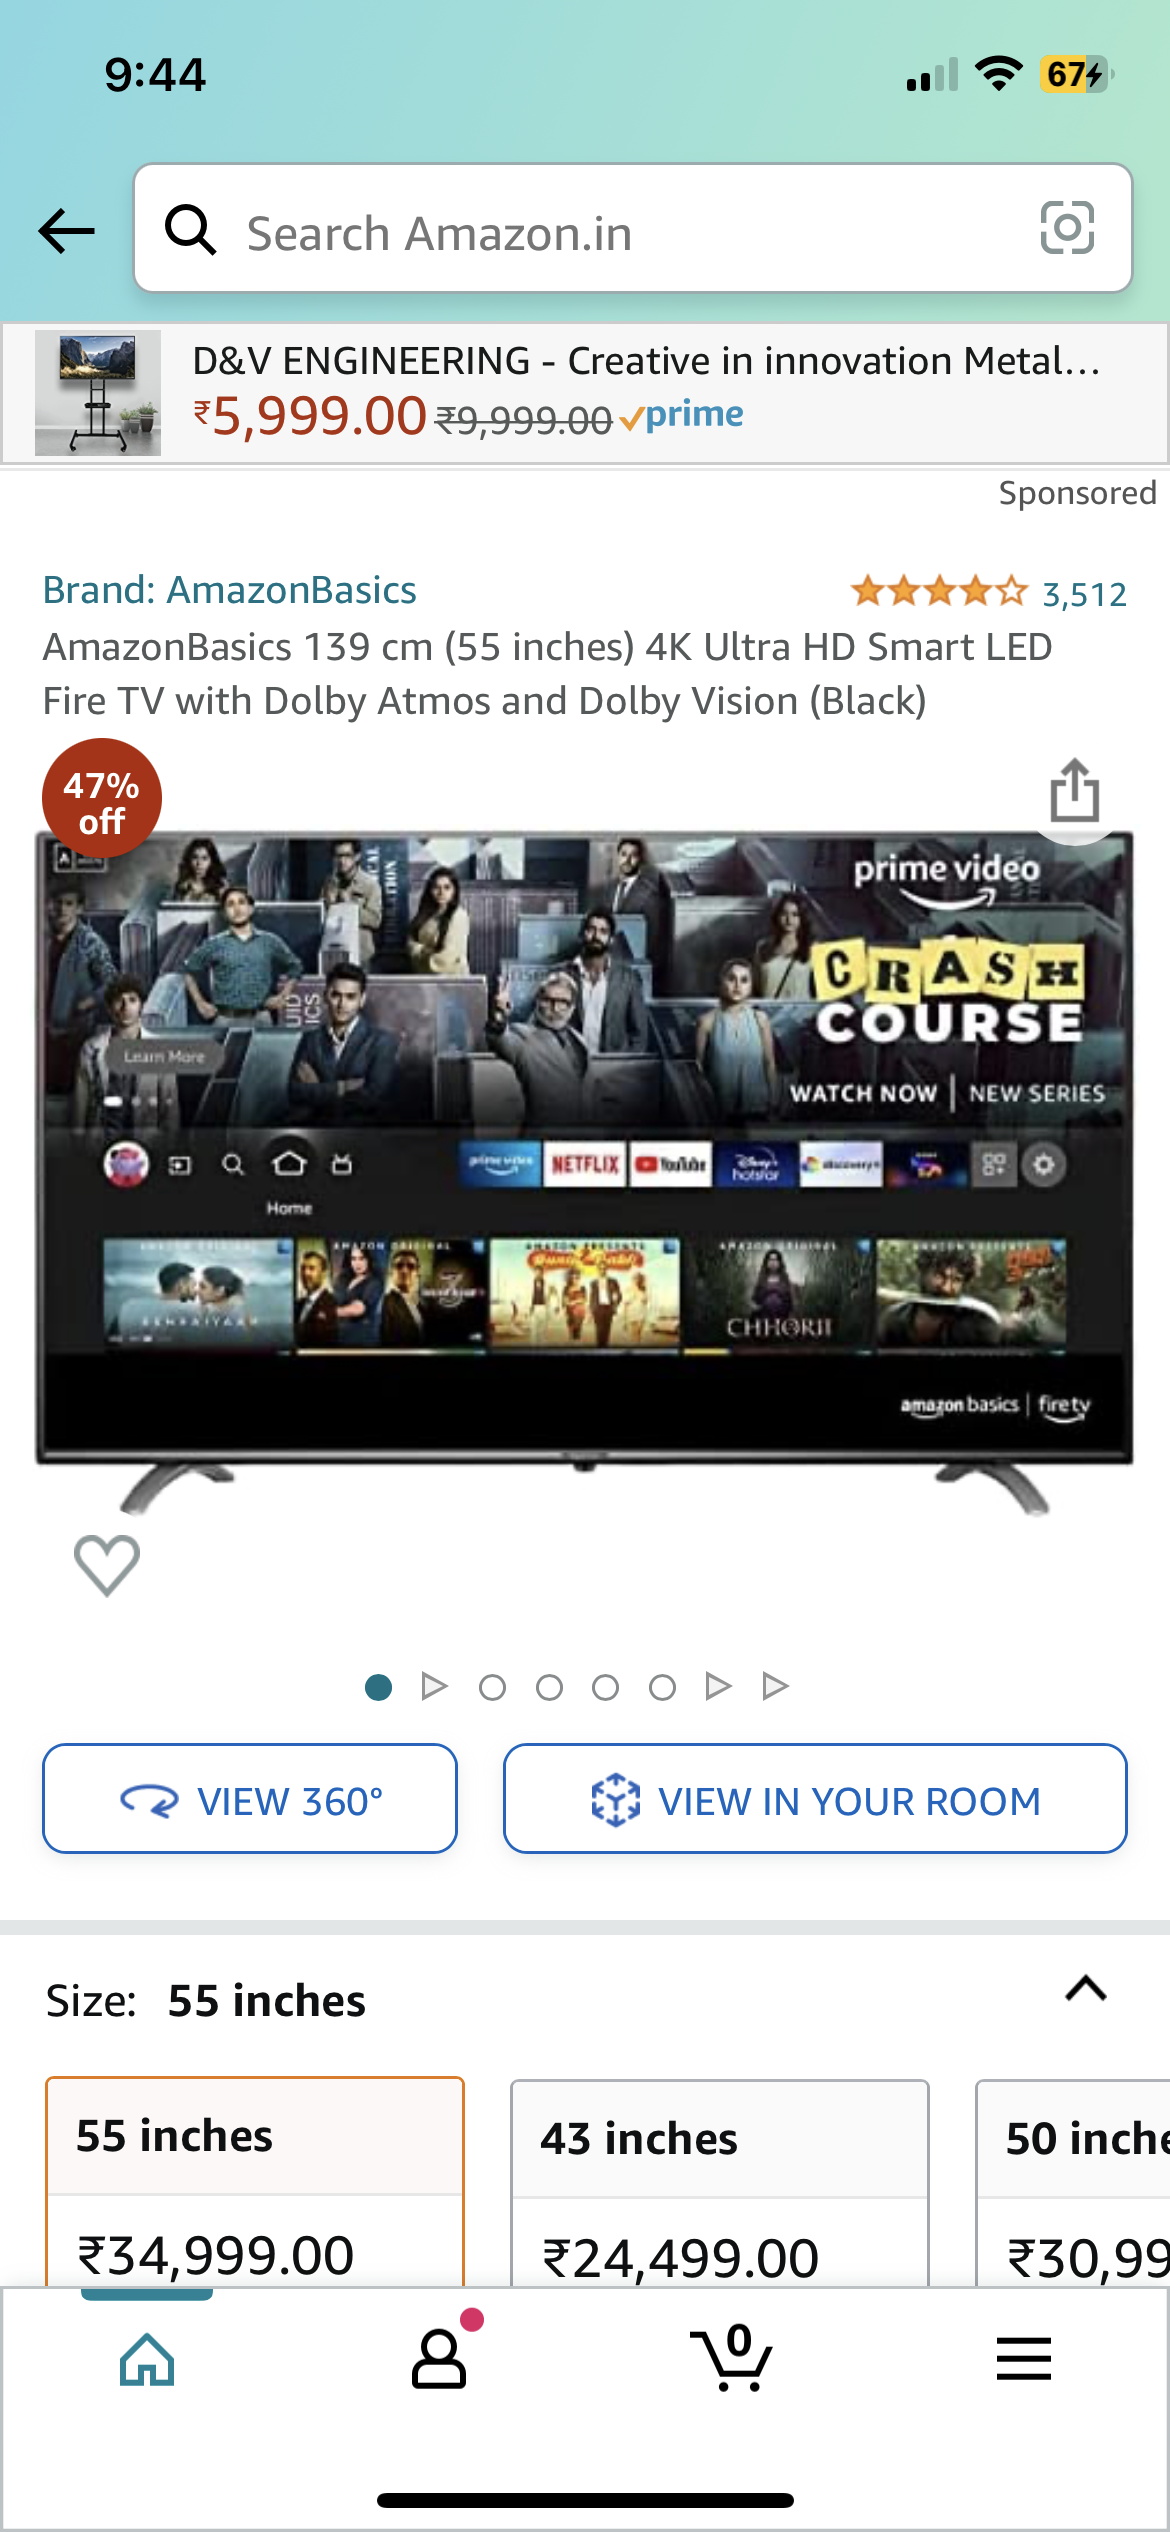LEDTV: (29, 825, 1143, 1510)
